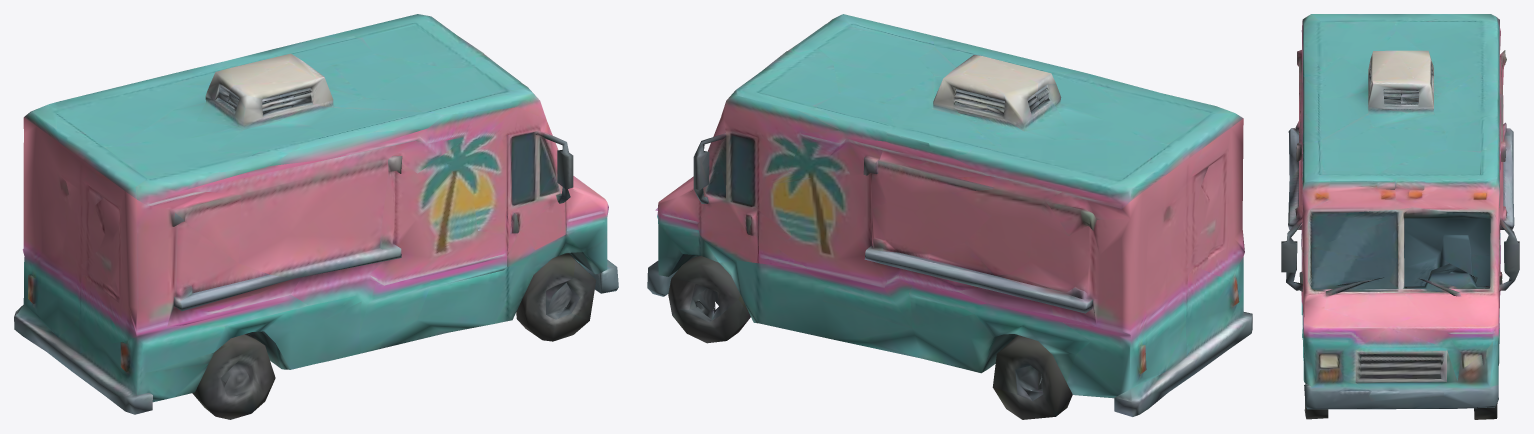
File: food_truck.glb
The picture shows the model from 3 angles, left to right: view 1: azimuth 30°, elevation 25°; view 2: azimuth 150°, elevation 25°; view 3: azimuth 270°, elevation 25°; orthographic projection. The views are drawn at different scales.
Parts seen in each view (by area): view 1: tripo_node_51bcadcf-3e71-40f7-bc5b-ecdb9fecb6c4; view 2: tripo_node_51bcadcf-3e71-40f7-bc5b-ecdb9fecb6c4; view 3: tripo_node_51bcadcf-3e71-40f7-bc5b-ecdb9fecb6c4.
Part boxes in pixels (x1=…): tripo_node_51bcadcf-3e71-40f7-bc5b-ecdb9fecb6c4: x1=14, y1=14, x2=618, y2=419; tripo_node_51bcadcf-3e71-40f7-bc5b-ecdb9fecb6c4: x1=647, y1=14, x2=1252, y2=419; tripo_node_51bcadcf-3e71-40f7-bc5b-ecdb9fecb6c4: x1=1281, y1=14, x2=1519, y2=419.
Size of the model in its own units: 1 by 0.5479 by 0.4766.
1 material, 1 textured.
